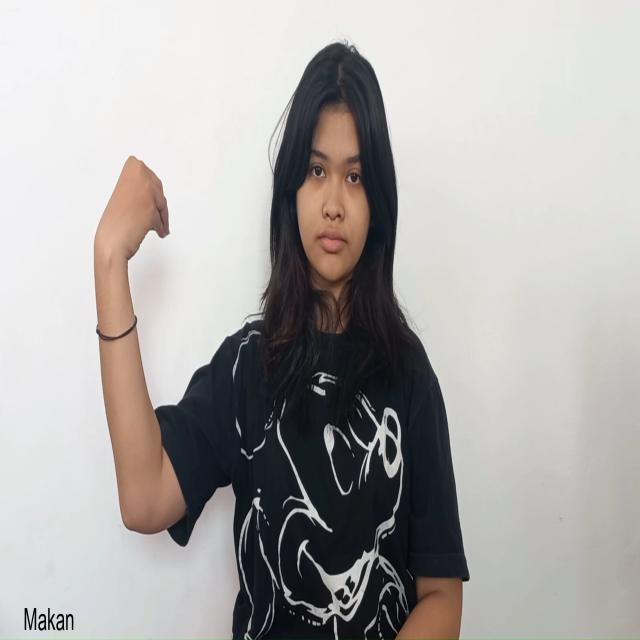Makan -BISINDO-: (92, 154, 170, 299)
